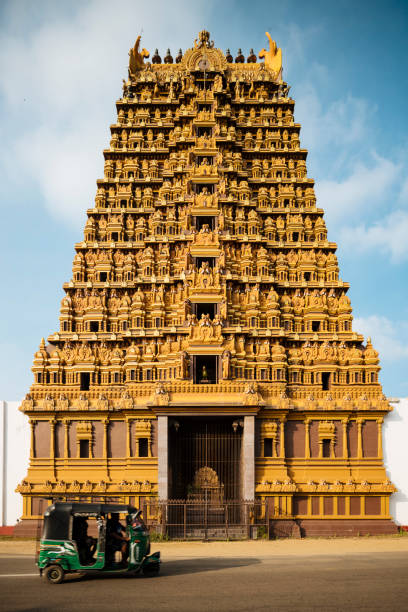threewheel: (36, 502, 162, 585)
